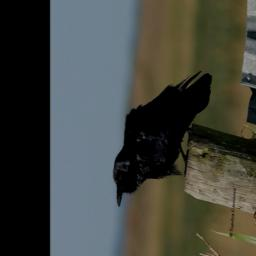Crow: (110, 53, 214, 223)
